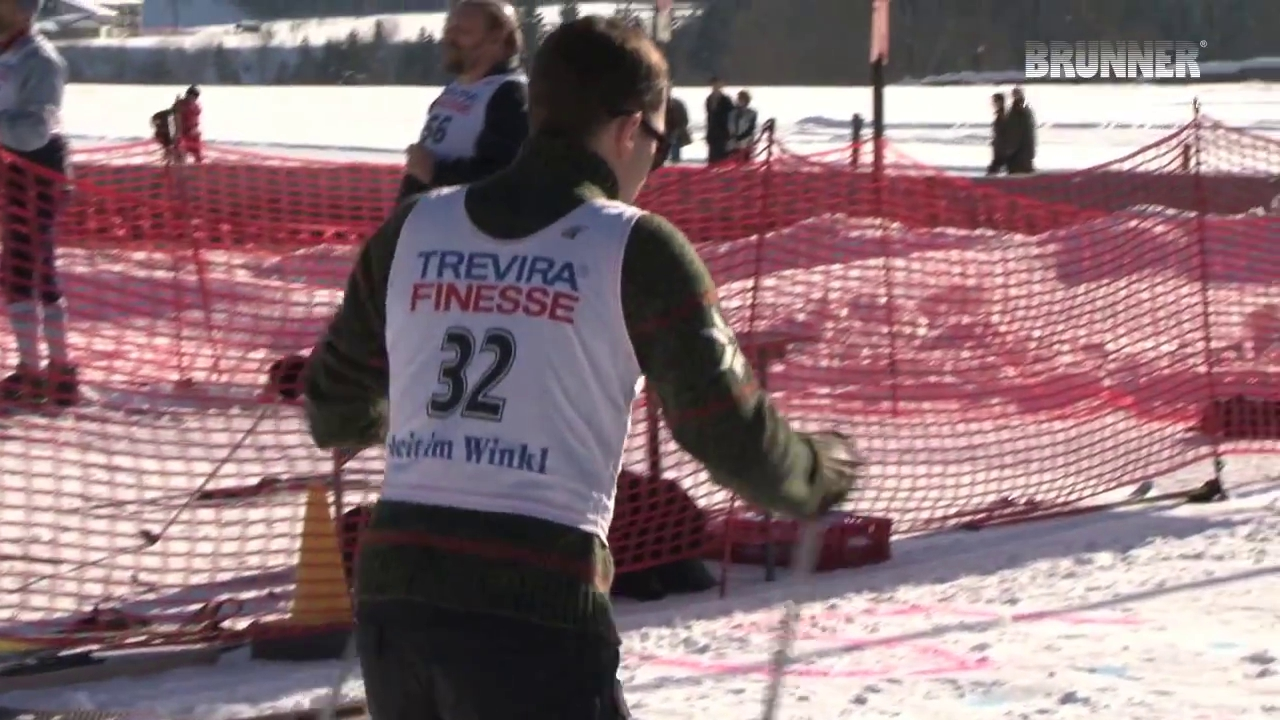person: (299, 15, 859, 718), (1, 1, 80, 406), (392, 1, 532, 210)
